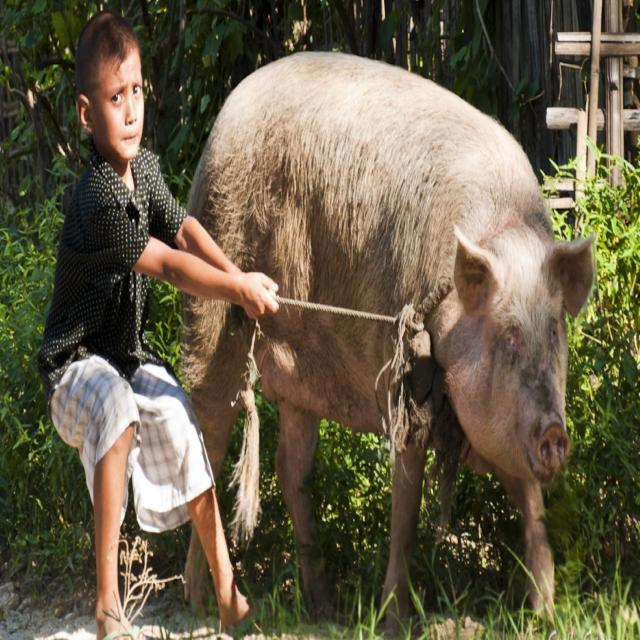pig: (181, 52, 595, 640)
